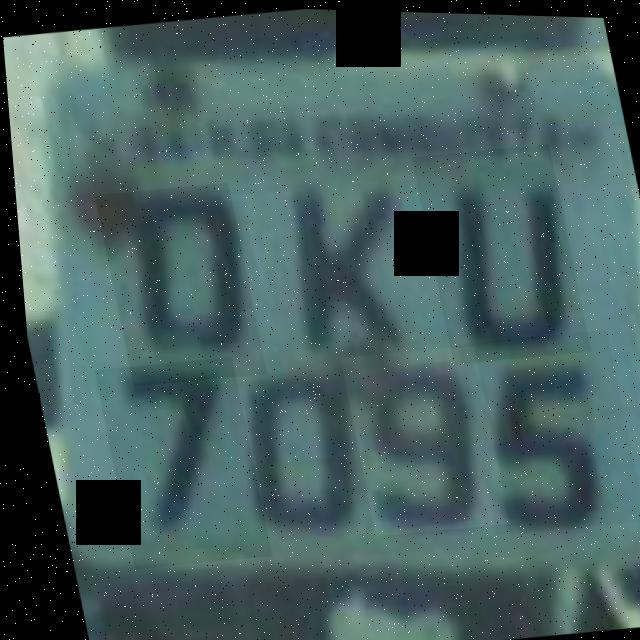0: (218, 348, 389, 553)
5: (450, 322, 638, 535)
7: (86, 352, 263, 572)
9: (333, 340, 502, 538)
O: (90, 178, 262, 389)
U: (408, 137, 586, 364)
